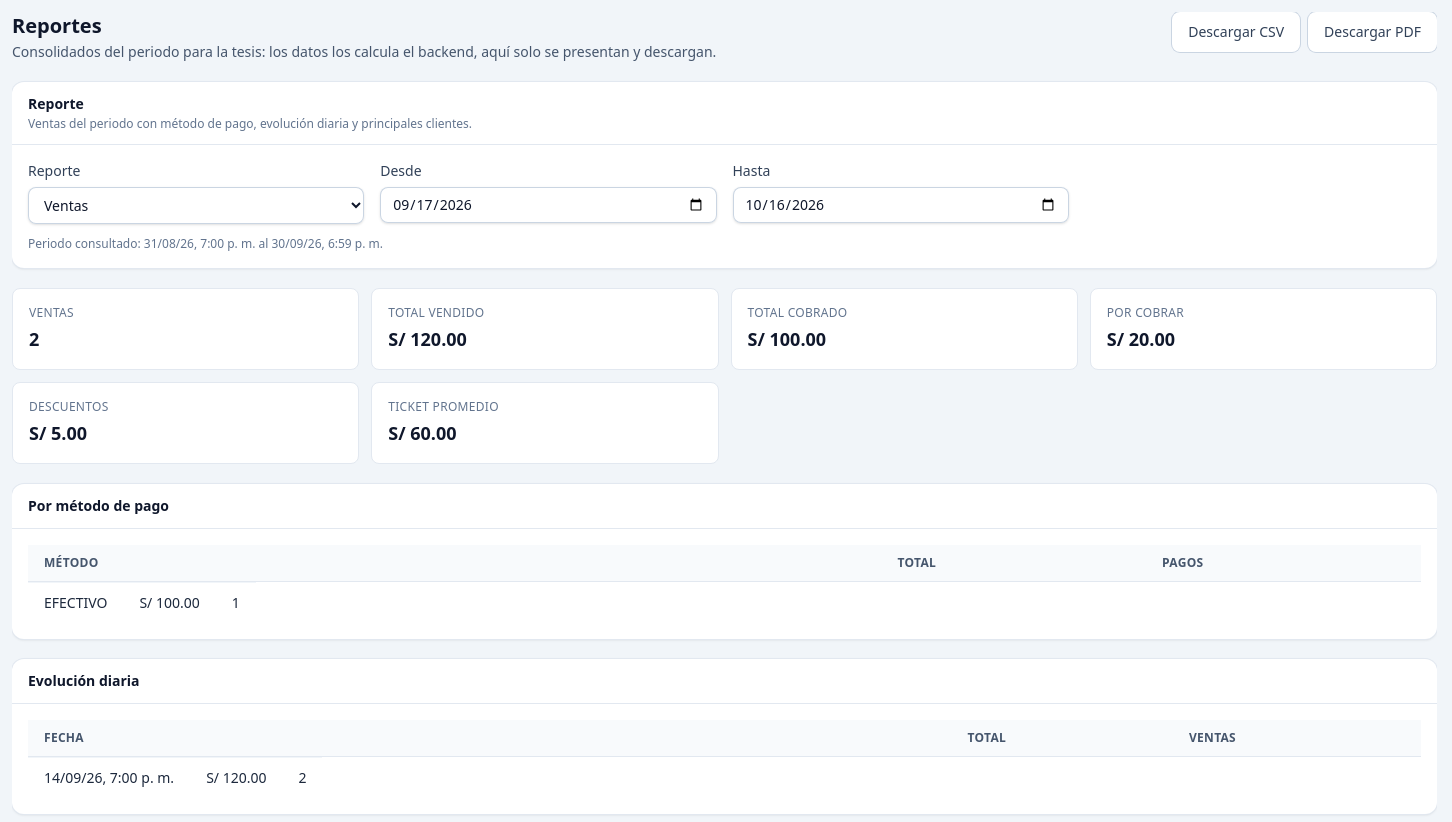
Test: pantalla de reportes › descargar PDF lleva el formato correcto y el rango elegido
Click the button "Descargar PDF" at (1373, 32), box [1308, 12, 1437, 52]
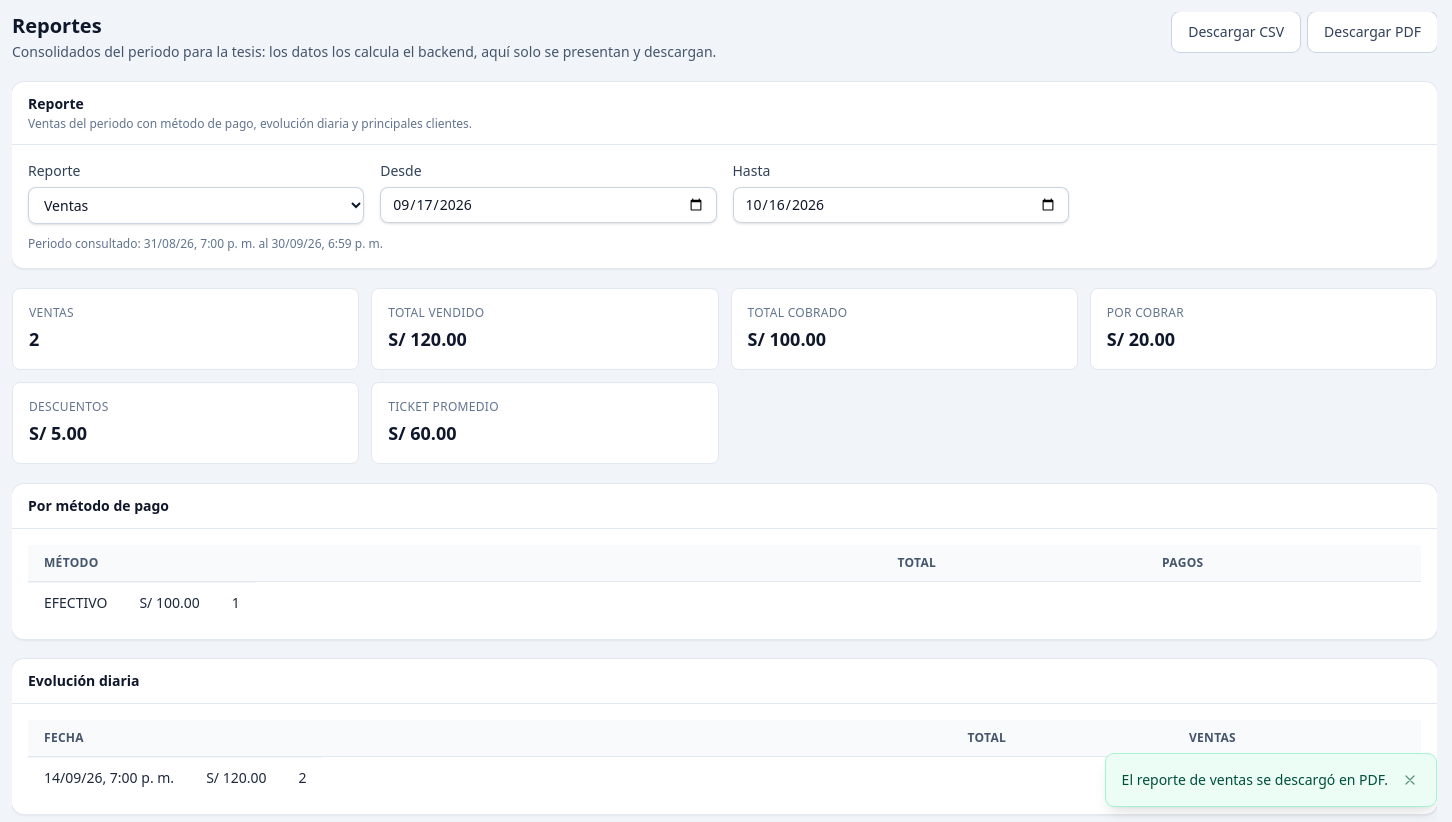
expect the text "El reporte de ventas se descargó en PDF." is shown: met, box [1122, 770, 1388, 790]
